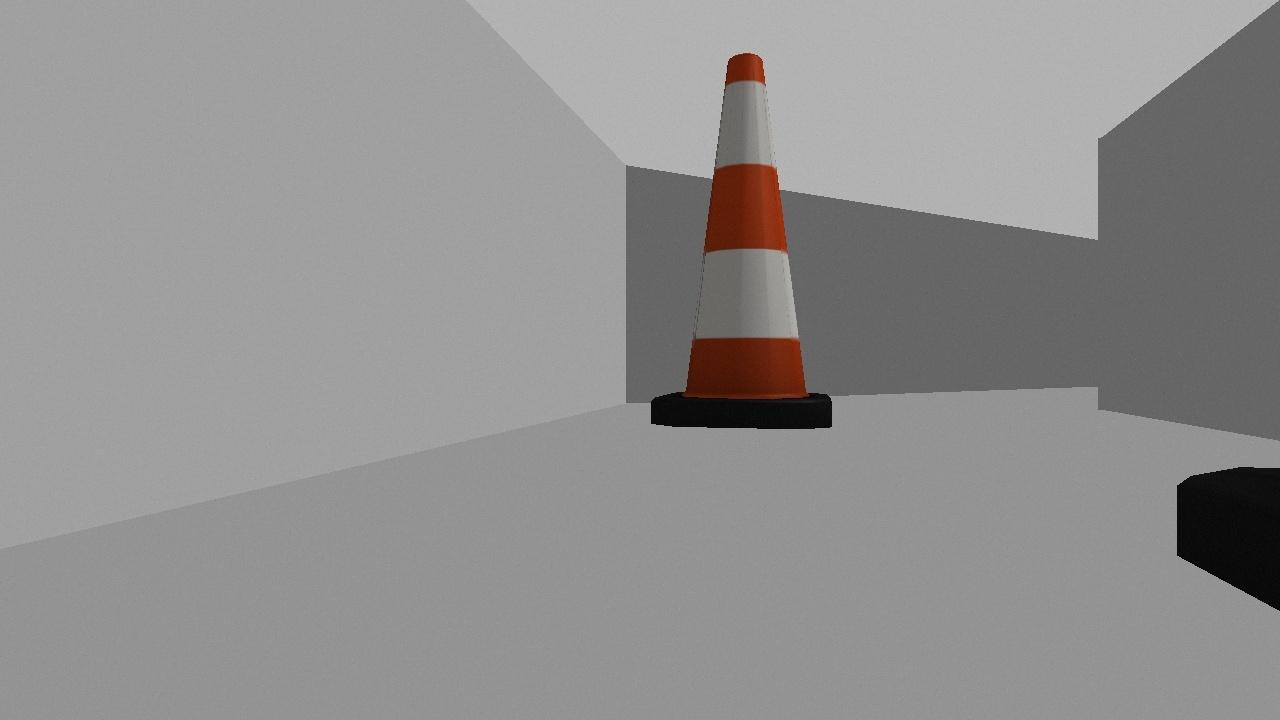cone_barrel: (639, 25, 847, 451)
